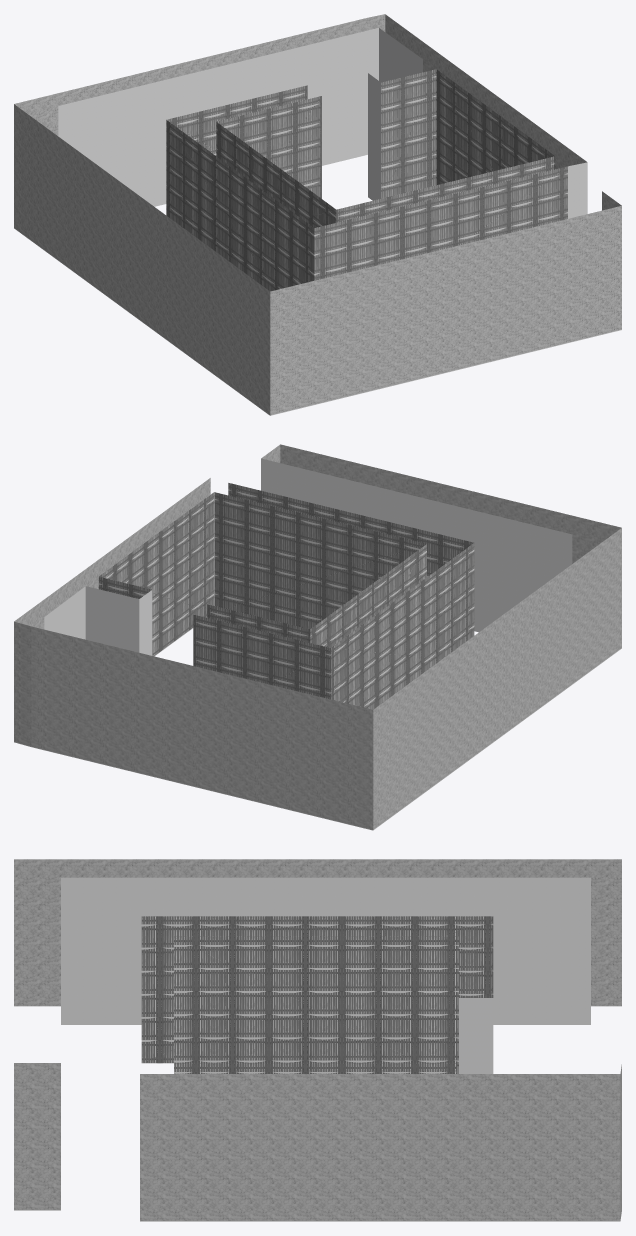
File: demo1.gltf
3 renders of one model, top to bottom at view 1: azimuth 30°, elevation 25°; view 2: azimuth 150°, elevation 25°; view 3: azimuth 270°, elevation 25°, orthographic. The views are drawn at different scales.
Parts seen in each view (by area): view 1: house; view 2: house; view 3: house.
Boxes of the visible parts, bbox=[...] form: house: bbox=[14, 14, 621, 415]; house: bbox=[14, 444, 621, 830]; house: bbox=[14, 859, 621, 1221].
Bounding box in the file's own units: 21.23 × 6.81 × 25.43.
17 materials, 3 textured.
